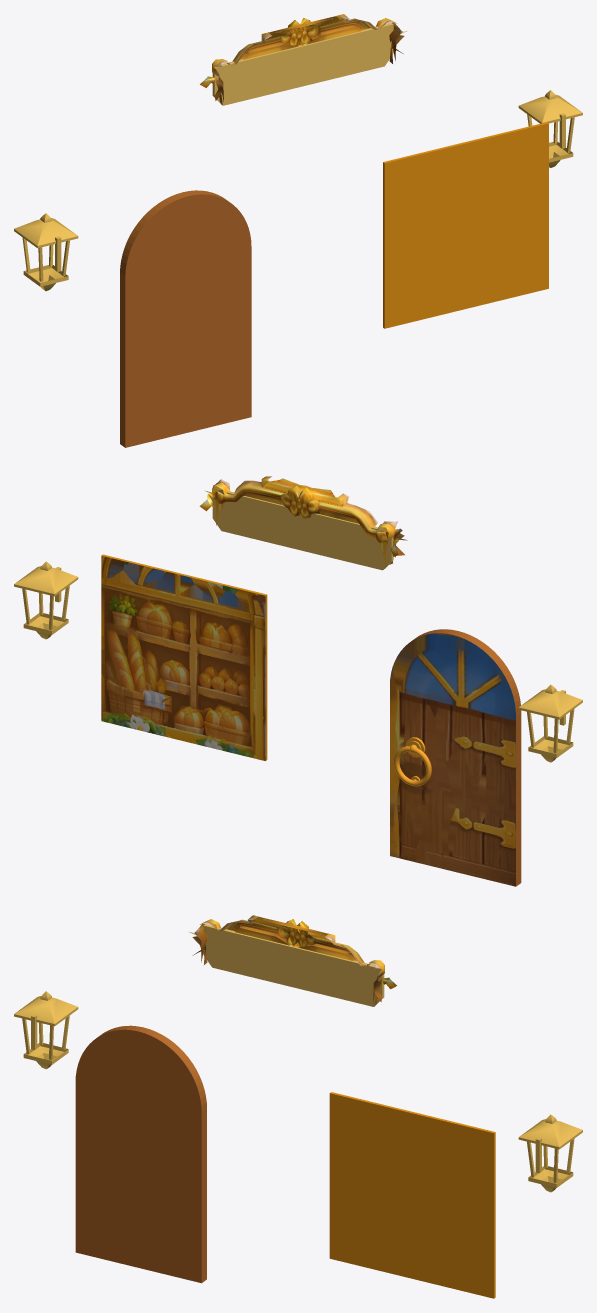
Rendered from HaloShop_Bakery_deco.glb.
3 views of the same model, one above another, from view 1: azimuth 30°, elevation 25°; view 2: azimuth 150°, elevation 25°; view 3: azimuth 330°, elevation 25° (orthographic).
Parts seen in each view (by area): view 1: HaloShop_Bakery_Leaf, HaloShop_Bakery_Display.001, HaloShop_Bakery_PlaqueBack, HaloShop_Bakery_Sign, HaloShop_Bakery_Lantern1, HaloShop_Bakery_Lantern0; view 2: HaloShop_Bakery_Leaf, HaloShop_Bakery_Display.001, HaloShop_Bakery_PlaqueBack, HaloShop_Bakery_Sign, HaloShop_Bakery_Lantern1, HaloShop_Bakery_Lantern0, Orn_HaloShop_Bakery_Knocker; view 3: HaloShop_Bakery_Leaf, HaloShop_Bakery_Display.001, HaloShop_Bakery_PlaqueBack, HaloShop_Bakery_Sign, HaloShop_Bakery_Lantern0, HaloShop_Bakery_Lantern1.
Part boxes in pixels (x1=…): HaloShop_Bakery_Leaf: x1=120, y1=190, x2=251, y2=447; HaloShop_Bakery_Display.001: x1=383, y1=122, x2=548, y2=328; HaloShop_Bakery_PlaqueBack: x1=212, y1=23, x2=393, y2=105; HaloShop_Bakery_Sign: x1=200, y1=14, x2=407, y2=105; HaloShop_Bakery_Lantern1: x1=14, y1=213, x2=78, y2=291; HaloShop_Bakery_Lantern0: x1=518, y1=90, x2=582, y2=167; HaloShop_Bakery_Leaf: x1=390, y1=629, x2=521, y2=886; HaloShop_Bakery_Display.001: x1=101, y1=554, x2=267, y2=760; HaloShop_Bakery_PlaqueBack: x1=212, y1=491, x2=393, y2=570; HaloShop_Bakery_Sign: x1=199, y1=476, x2=407, y2=566; HaloShop_Bakery_Lantern1: x1=518, y1=684, x2=582, y2=762; HaloShop_Bakery_Lantern0: x1=14, y1=561, x2=78, y2=639; Orn_HaloShop_Bakery_Knocker: x1=394, y1=737, x2=431, y2=786; HaloShop_Bakery_Leaf: x1=75, y1=1025, x2=206, y2=1283; HaloShop_Bakery_Display.001: x1=329, y1=1092, x2=495, y2=1298; HaloShop_Bakery_PlaqueBack: x1=203, y1=924, x2=384, y2=1006; HaloShop_Bakery_Sign: x1=189, y1=915, x2=396, y2=1006; HaloShop_Bakery_Lantern0: x1=518, y1=1114, x2=582, y2=1192; HaloShop_Bakery_Lantern1: x1=14, y1=991, x2=78, y2=1069.
Bounding box in the file's own units: 18.59 × 11.84 × 2.31.
Materials: 6 (3 with a texture image).
